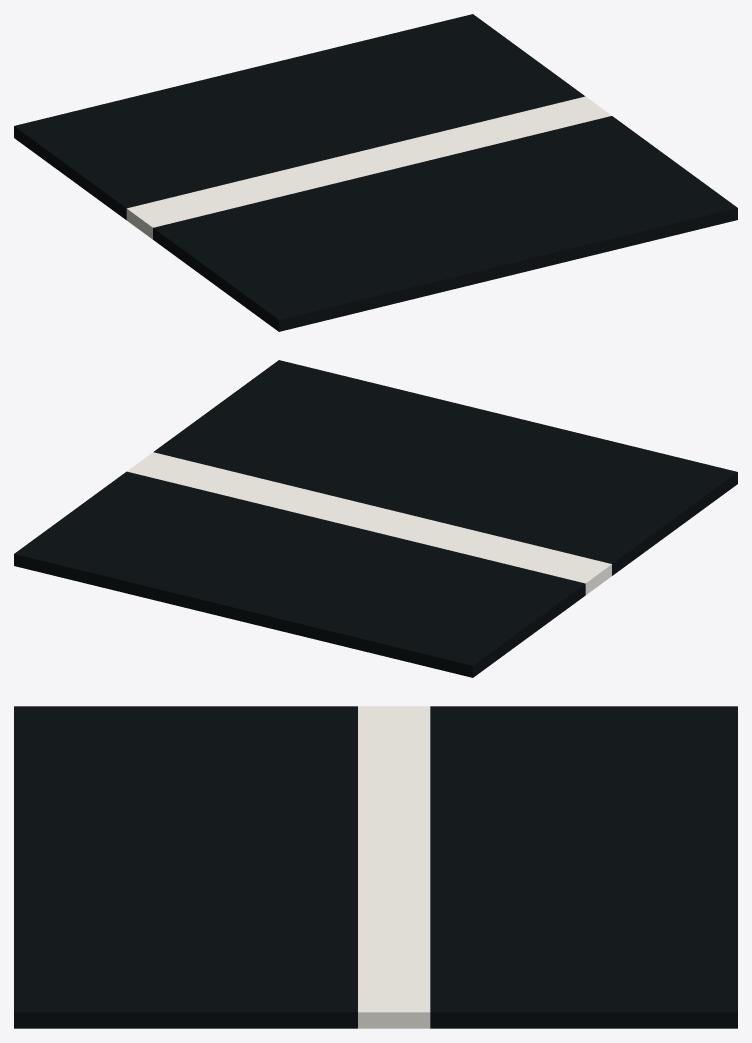
File: Chao_Asfalto_Meio.obj
The picture shows the model from 3 angles, top to bottom: view 1: azimuth 30°, elevation 25°; view 2: azimuth 150°, elevation 25°; view 3: azimuth 270°, elevation 25°; orthographic projection. The views are drawn at different scales.
Bounding box in the file's own units: 40 × 1 × 40.
Materials: 1 (1 with a texture image).
